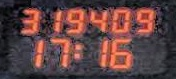0: (110, 9, 130, 33)
1: (33, 39, 42, 67), (98, 39, 106, 67), (52, 9, 61, 32)
3: (20, 9, 37, 33)
4: (88, 9, 107, 31)
6: (109, 37, 131, 68)
7: (49, 37, 68, 67)
9: (135, 8, 154, 32), (65, 9, 83, 33)
X: (72, 43, 81, 58)
